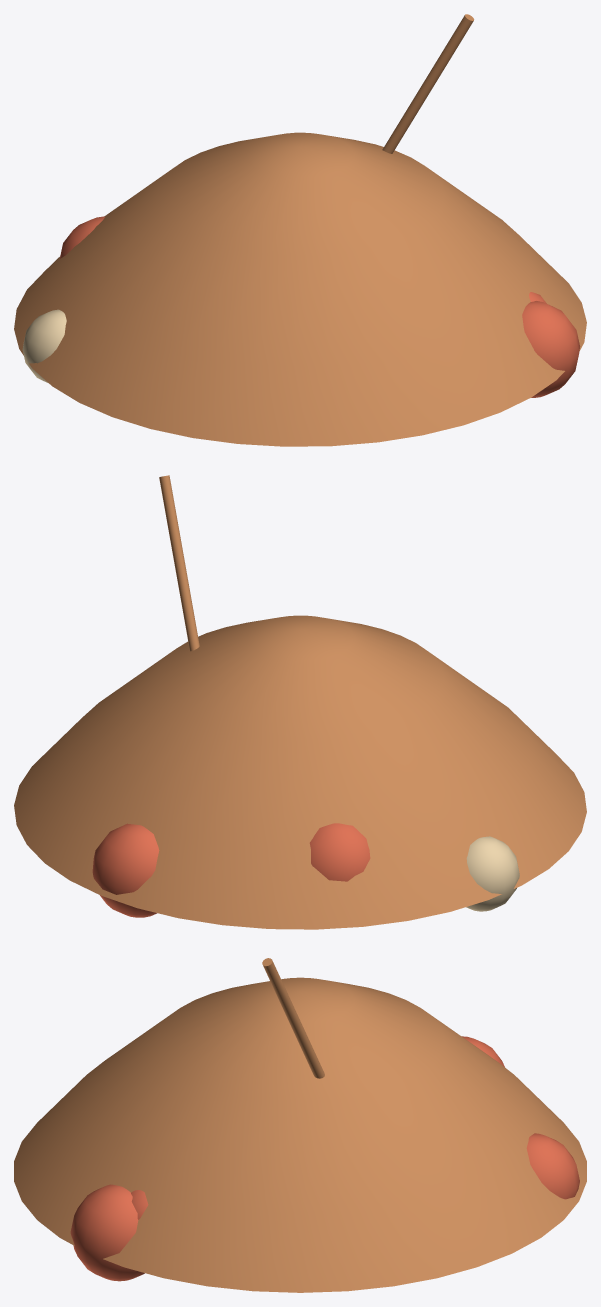
The model's file is dirt_pile.glb.
The picture shows the model from 3 angles, top to bottom: view 1: azimuth 30°, elevation 25°; view 2: azimuth 150°, elevation 25°; view 3: azimuth 270°, elevation 25°; orthographic projection.
Visible parts, largest first — view 1: dirt_pile; view 2: dirt_pile; view 3: dirt_pile.
Part boxes in pixels (box(x1,y1,x2,y2)): dirt_pile: box(14, 14, 586, 446); dirt_pile: box(14, 475, 586, 929); dirt_pile: box(14, 958, 586, 1292).
Size of the model in its own units: 3.2 by 1.98 by 3.19.
Materials: 1 (1 with a texture image).
